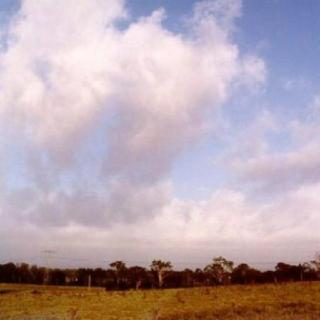Stratocumulus: (0, 0, 320, 268)
